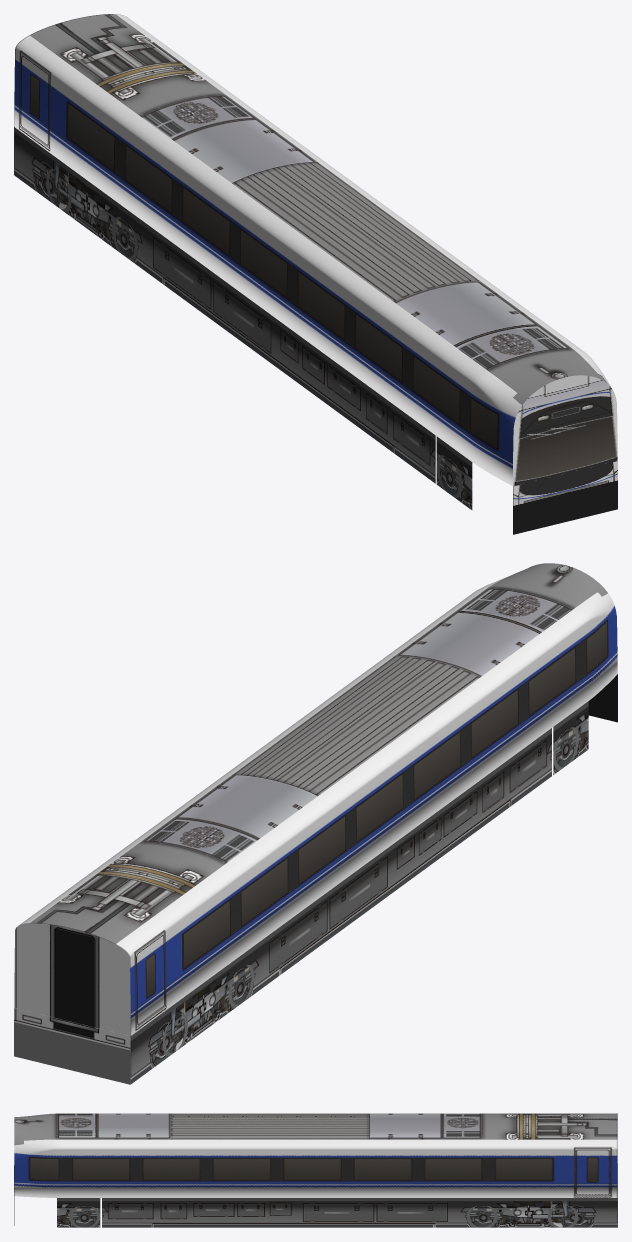
File: car1.glb
The picture shows the model from 3 angles, top to bottom: view 1: azimuth 30°, elevation 25°; view 2: azimuth 150°, elevation 25°; view 3: azimuth 270°, elevation 25°; orthographic projection. The views are drawn at different scales.
Parts seen in each view (by area): view 1: jr-tokai-371-car1; view 2: jr-tokai-371-car1; view 3: jr-tokai-371-car1.
Part boxes in pixels (<box>): jr-tokai-371-car1: <box>14,14,617,534</box>; jr-tokai-371-car1: <box>14,563,617,1084</box>; jr-tokai-371-car1: <box>14,1113,617,1227</box>.
Size of the model in its own units: 2.9 by 3.44 by 21.28.
Materials: 9 (8 with a texture image).
